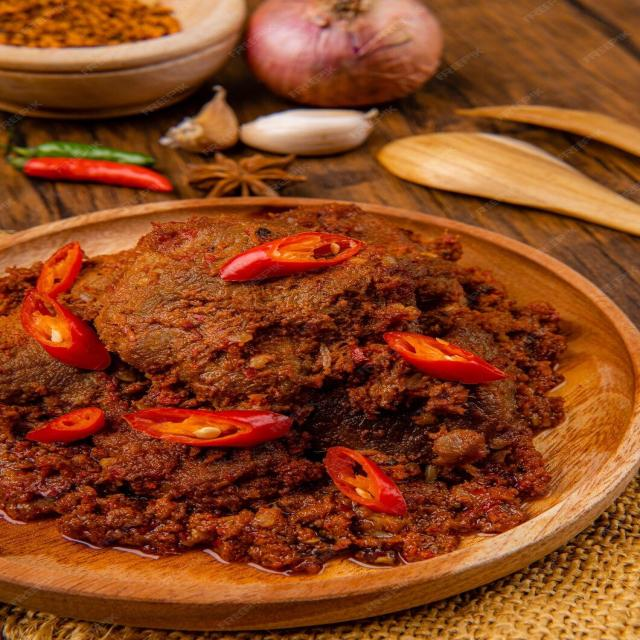Rendang: (2, 219, 599, 601)
